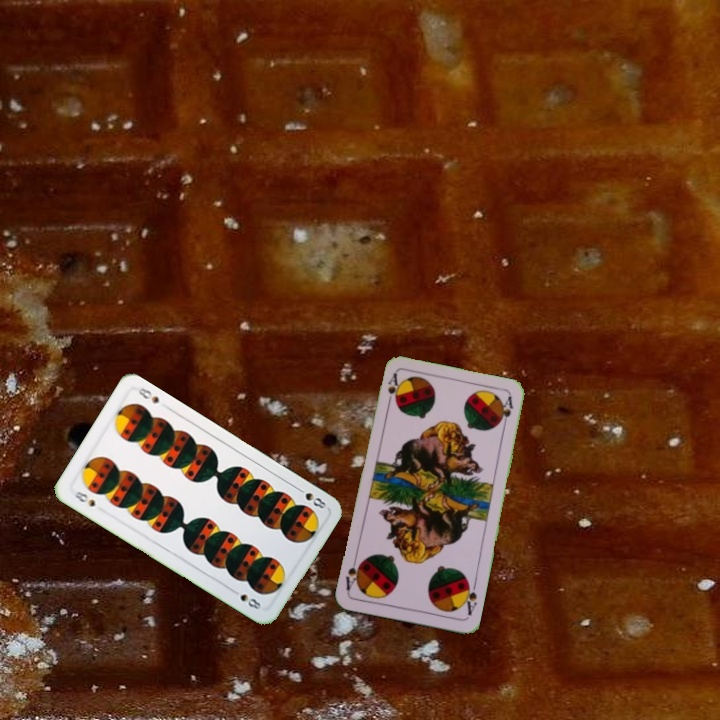S8: (292, 483, 330, 511), (70, 487, 98, 509)
SA: (459, 577, 479, 618), (383, 370, 401, 410)
